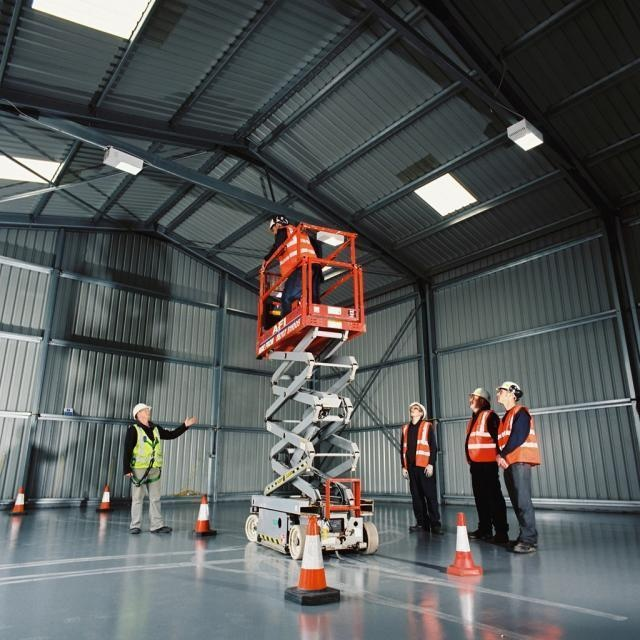Arnes_seguridad: (128, 421, 162, 484)
